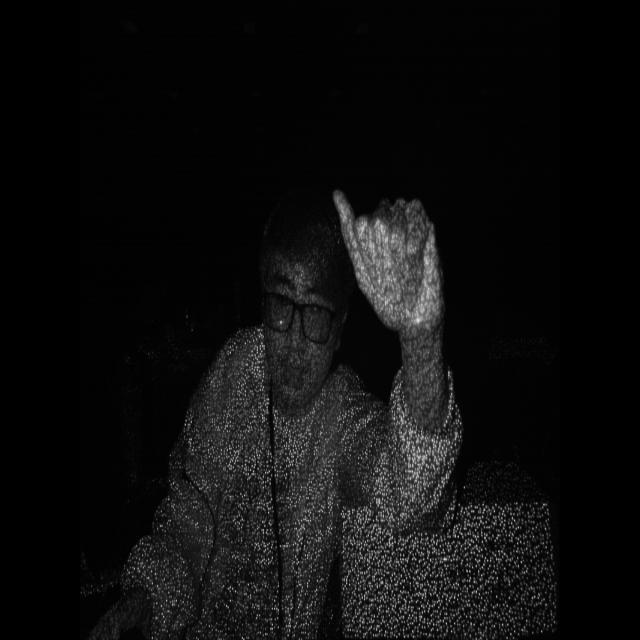A: (326, 188, 478, 352)
